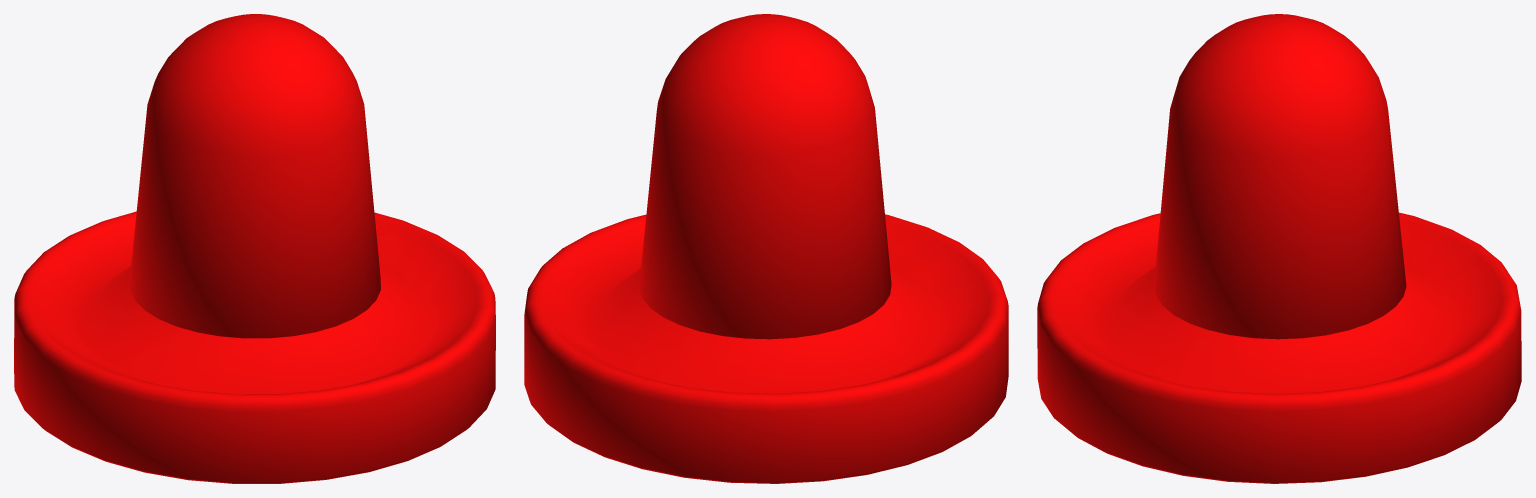
The model's file is paddle_red.fbx.
3 renders of one model, left to right at view 1: azimuth 30°, elevation 25°; view 2: azimuth 150°, elevation 25°; view 3: azimuth 270°, elevation 25°, orthographic.
Parts seen in each view (by area): view 1: PUCK; view 2: PUCK; view 3: PUCK.
Boxes of the visible parts, x1,y1,x2,y2 form: PUCK: [14, 14, 495, 483]; PUCK: [524, 14, 1008, 483]; PUCK: [1037, 14, 1521, 483].
Bounding box in the file's own units: 175 × 143 × 175.
